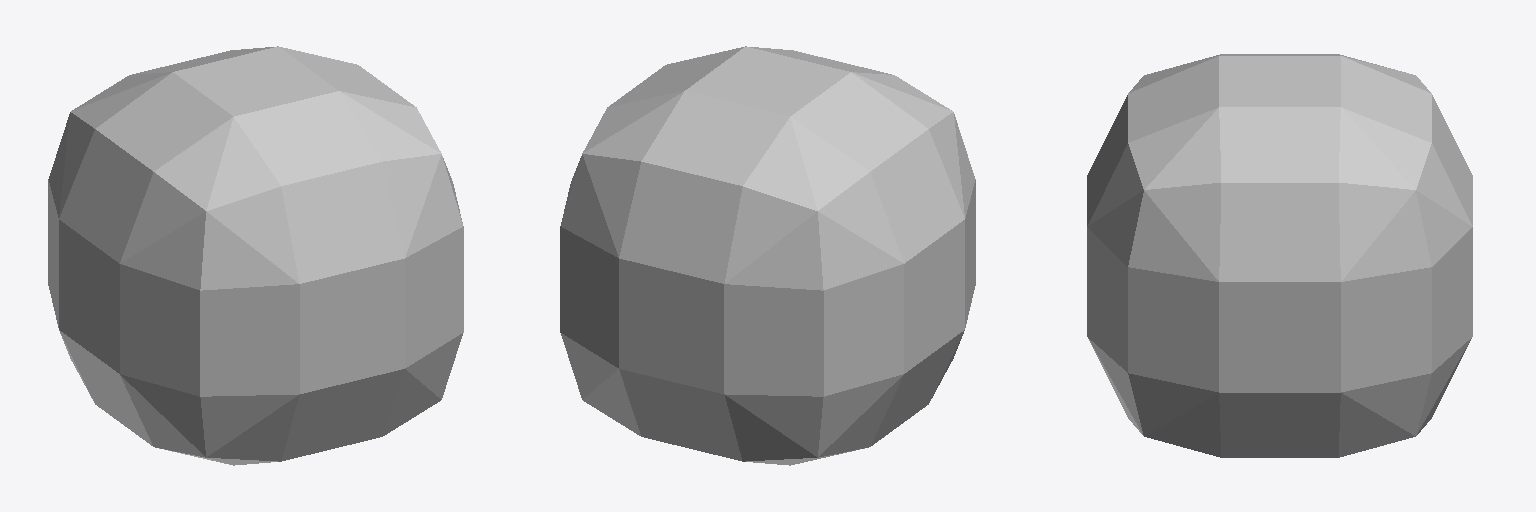
The model's file is cube_grid_smoothed_30.obj.
3 views of the same model, side by side, from view 1: azimuth 30°, elevation 25°; view 2: azimuth 150°, elevation 25°; view 3: azimuth 270°, elevation 25° (orthographic).
Bounding box in the file's own units: 1.02 × 1.02 × 1.02.